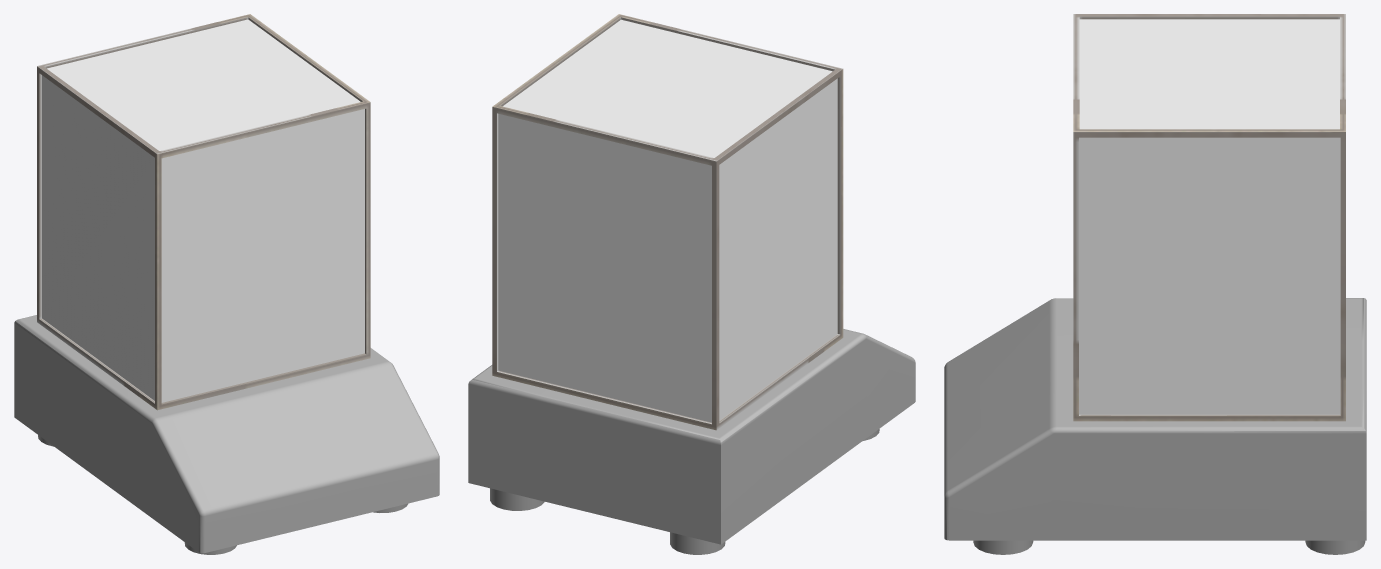
The model's file is analytical_lab_instruments.fbx.
3 views of the same model, side by side, from view 1: azimuth 30°, elevation 25°; view 2: azimuth 150°, elevation 25°; view 3: azimuth 270°, elevation 25° (orthographic). The views are drawn at different scales.
Parts seen in each view (by area): view 1: pCube32, pCube31; view 2: pCube32, pCube31, pCylinder8, pCylinder7; view 3: pCube32, pCube31, pCylinder7, pCylinder6.
Part boxes in pixels (x1,y1,x2,y2): pCube32: (37,14,370,410); pCube31: (14,315,439,553); pCube32: (492,14,843,430); pCube31: (468,329,915,544); pCylinder8: (670,532,725,554); pCylinder7: (490,488,544,510); pCube32: (1073,14,1345,421); pCube31: (944,298,1366,540); pCylinder7: (1305,540,1365,554); pCylinder6: (973,540,1033,554).
Bounding box in the file's own units: 33.11 × 49 × 44.55.
